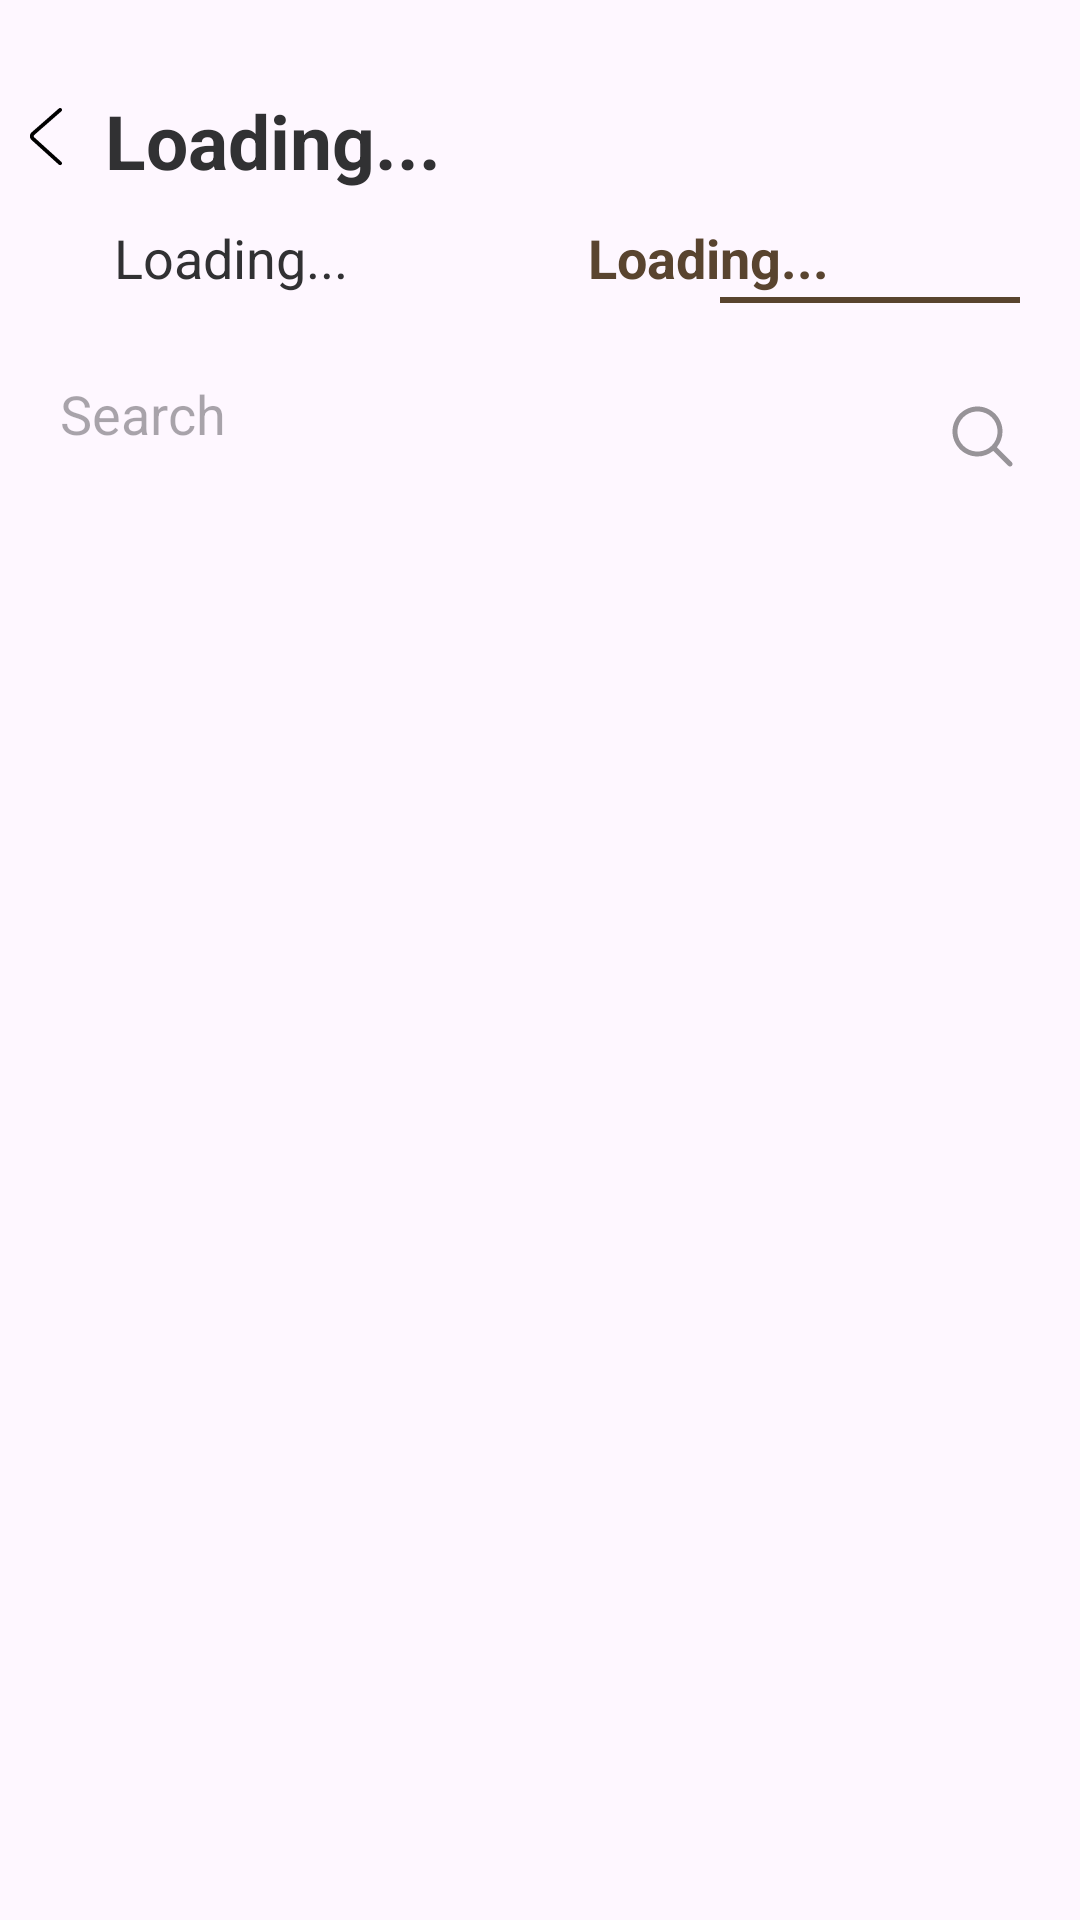

Icons on this 1080px×1920px Android screen, each with the point to tap as [x,y]:
back: [46,136]
